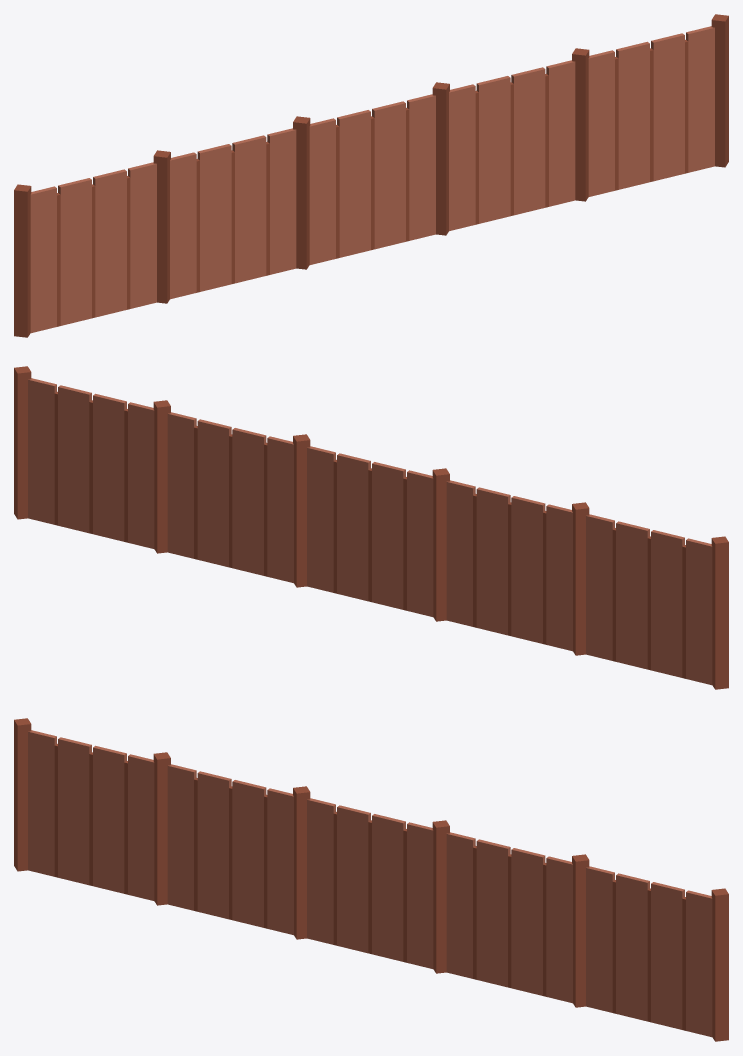
The model's file is Fence.fbx.
3 renders of one model, top to bottom at view 1: azimuth 30°, elevation 25°; view 2: azimuth 150°, elevation 25°; view 3: azimuth 330°, elevation 25°, orthographic.
Parts seen in each view (by area): view 1: mergedBlocks; view 2: mergedBlocks; view 3: mergedBlocks.
Part boxes in pixels (box(x1,y1,x2,y2)): mergedBlocks: box(14, 14, 728, 337); mergedBlocks: box(14, 366, 728, 689); mergedBlocks: box(14, 718, 728, 1041).
Bounding box in the file's own units: 51.25 × 10 × 1.25.
